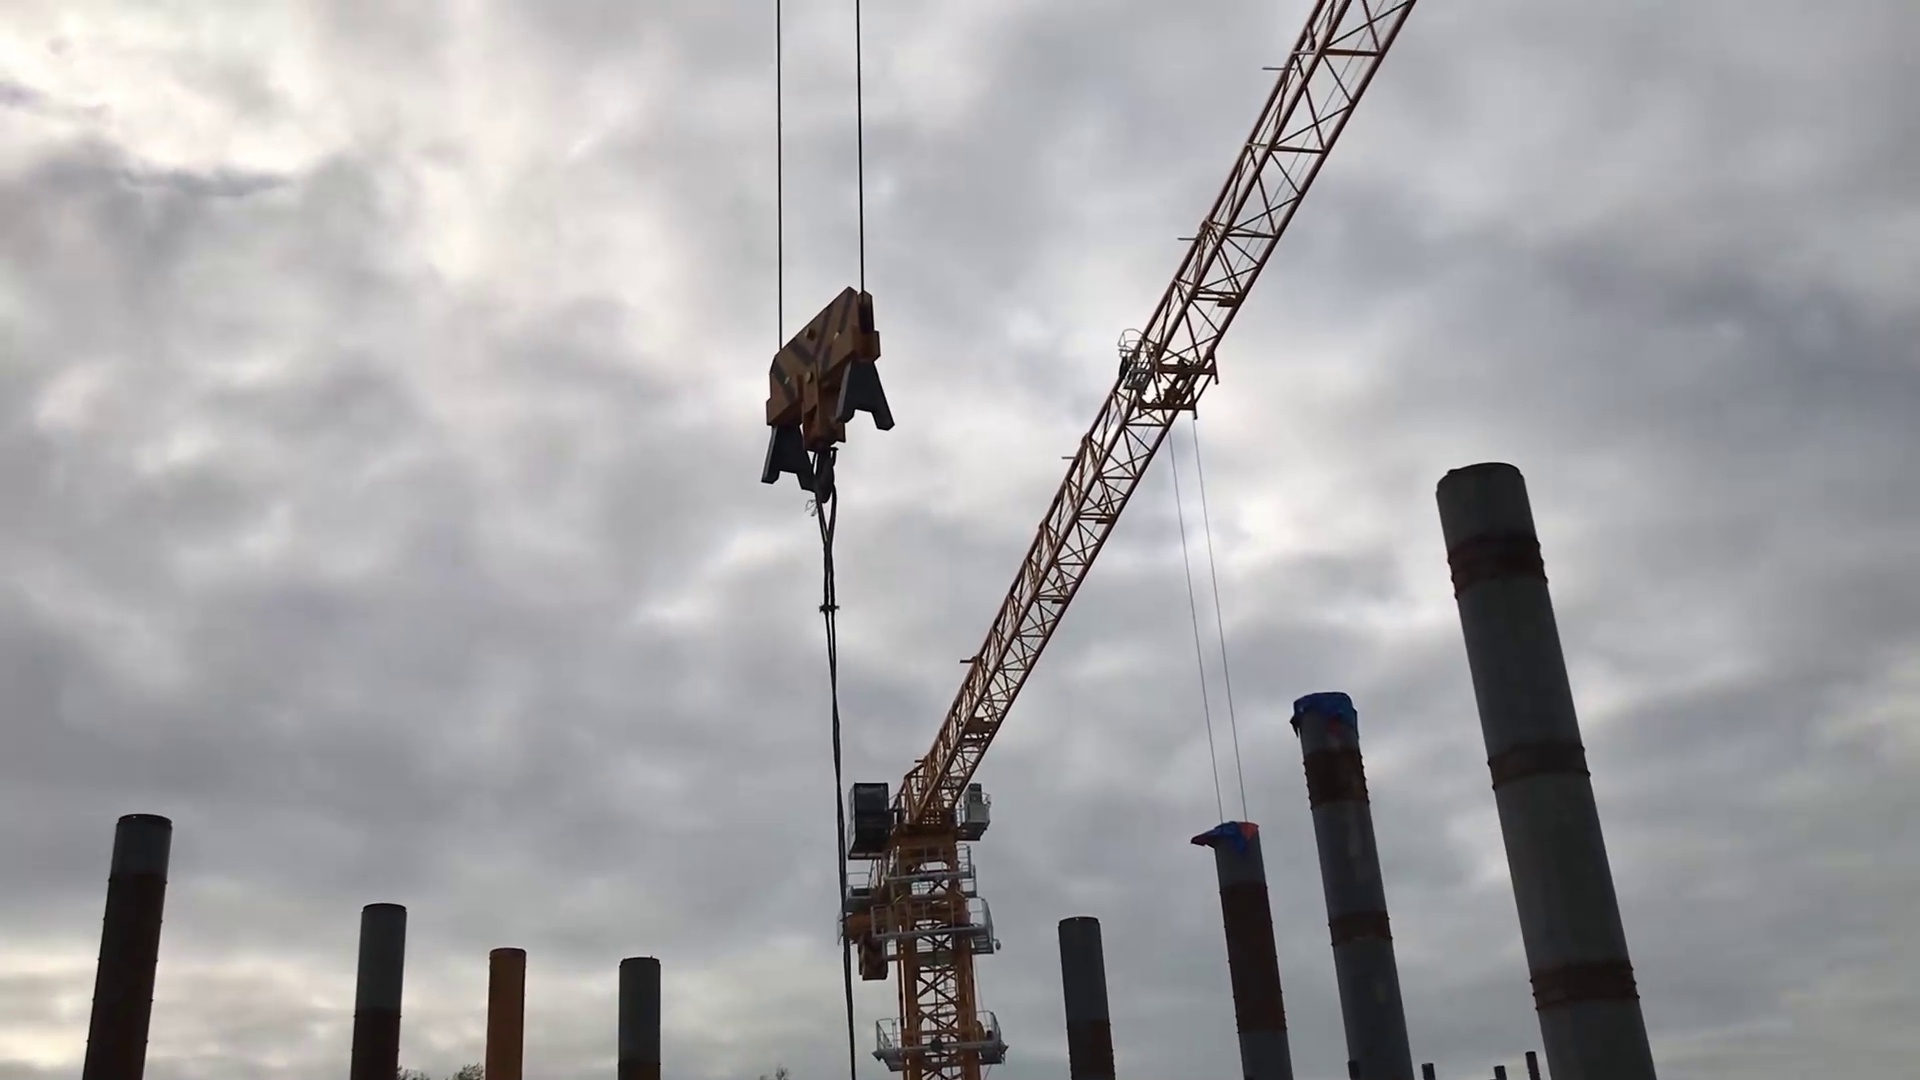hook: (752, 282, 905, 516)
